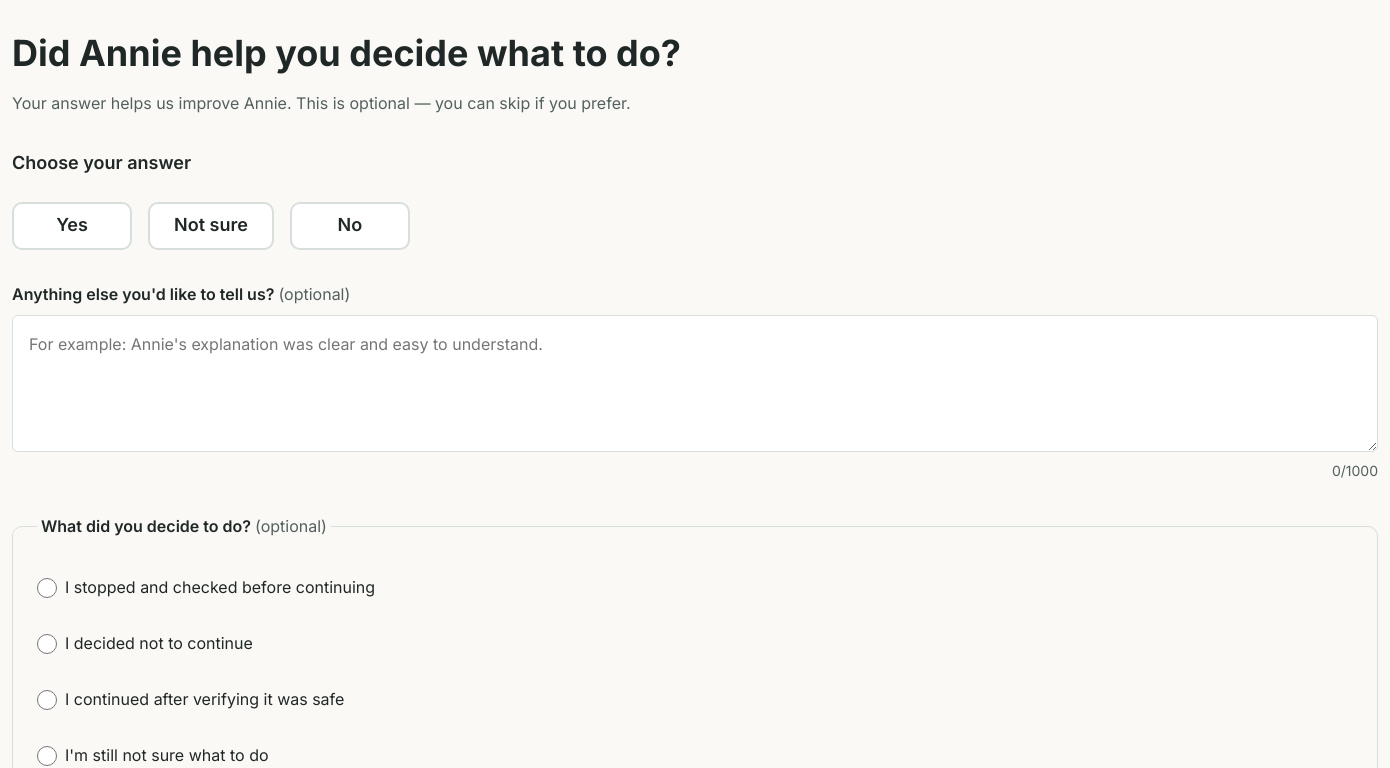
Test: FeedbackScreen — Submit button disabled state › Submit is enabled after selecting "No"
Step 1. Click the radio button labelled "No" → {"x": 350, "y": 226}, box left=290, top=202, right=410, bottom=250
(page scrolled)
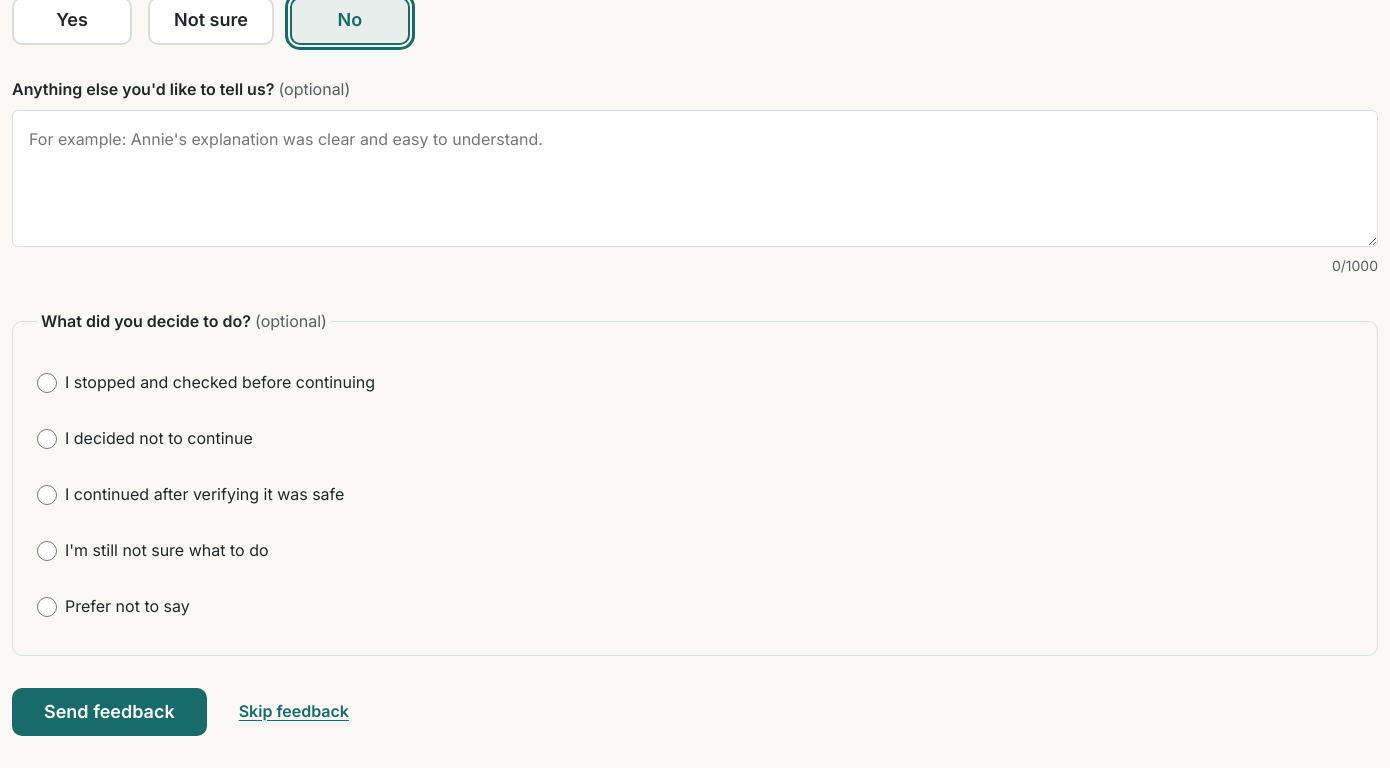
Result: the button "Send feedback" is enabled at left=12, top=688, right=207, bottom=736
